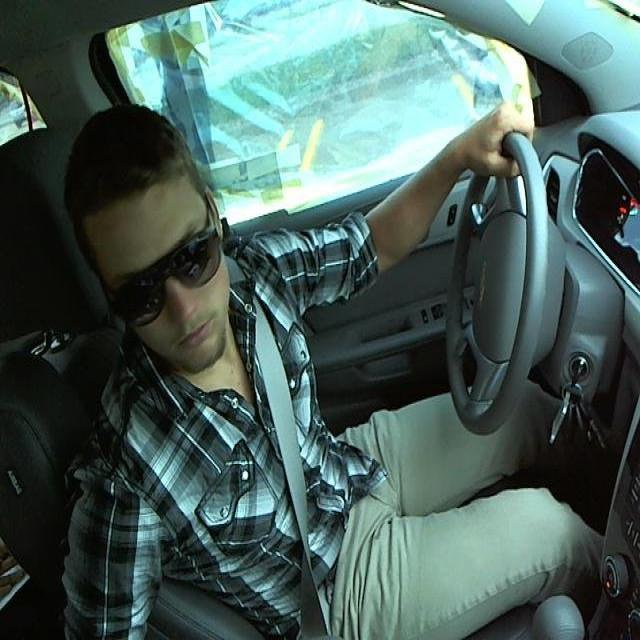seatbelt: (240, 325, 355, 639)
